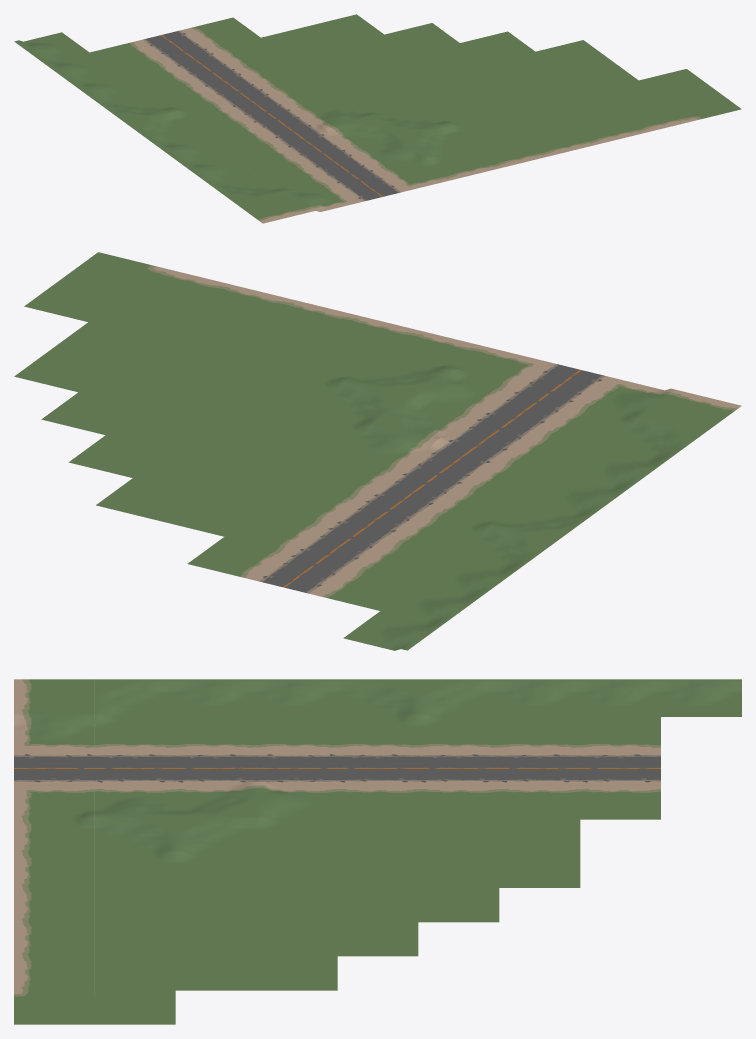
Rendered from Water_Tower_Quarter.fbx.
3 renders of one model, top to bottom at view 1: azimuth 30°, elevation 25°; view 2: azimuth 150°, elevation 25°; view 3: azimuth 270°, elevation 25°, orthographic. The views are drawn at different scales.
Parts seen in each view (by area): view 1: pPlane733; view 2: pPlane733; view 3: pPlane733.
Part boxes in pixels (x1,y1,x2,y2): pPlane733: [14, 14, 741, 223]; pPlane733: [14, 252, 741, 650]; pPlane733: [14, 679, 741, 1024].
Size of the model in its own units: 100 by 0.5 by 90.
